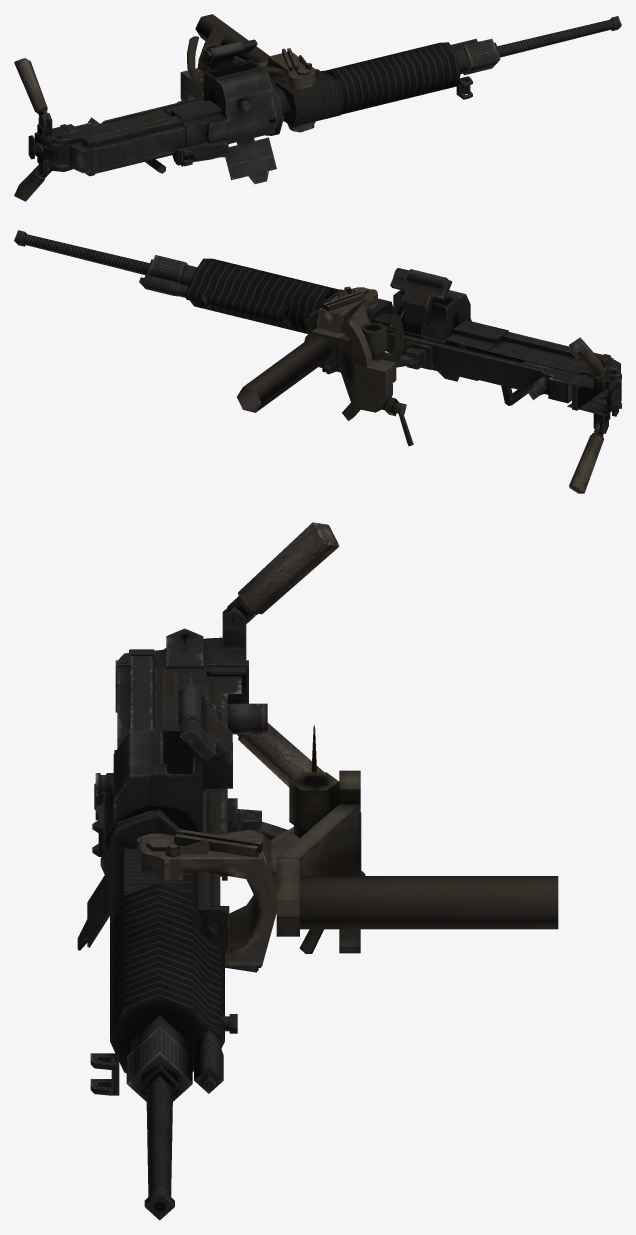
The model's file is weapon_jap_mg_type92_notripod_LOD21.obj.
3 renders of one model, top to bottom at view 1: azimuth 30°, elevation 25°; view 2: azimuth 150°, elevation 25°; view 3: azimuth 270°, elevation 25°, orthographic. The views are drawn at different scales.
Parts seen in each view (by area): view 1: TomGroup_0, TomGroup_1; view 2: TomGroup_0, TomGroup_1; view 3: TomGroup_0, TomGroup_1.
Boxes of the visible parts, <box> form: TomGroup_0: <box>14,16,621,201</box>; TomGroup_1: <box>177,14,315,132</box>; TomGroup_0: <box>14,230,621,493</box>; TomGroup_1: <box>237,286,414,446</box>; TomGroup_0: <box>77,522,339,1220</box>; TomGroup_1: <box>137,725,558,972</box>.
Bounding box in the file's own units: 118 × 28.64 × 43.41.
2 materials, 2 textured.
